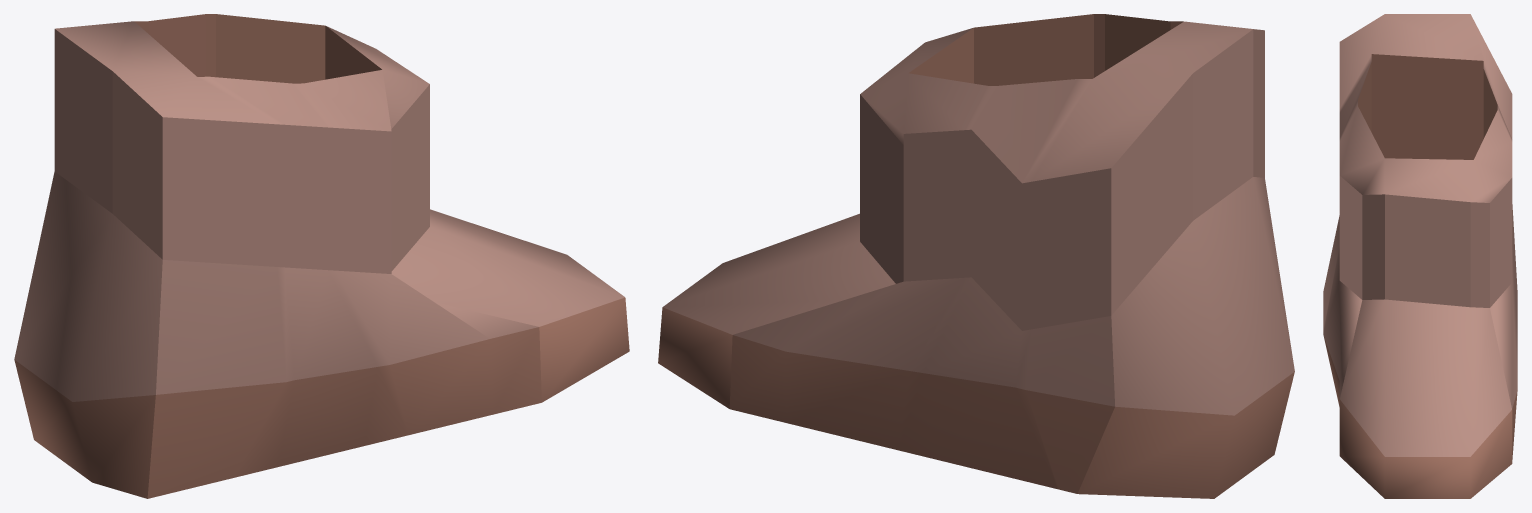
Rendered from shoe_boot.fbx.
3 renders of one model, left to right at view 1: azimuth 30°, elevation 25°; view 2: azimuth 150°, elevation 25°; view 3: azimuth 270°, elevation 25°, orthographic. The views are drawn at different scales.
Visible parts, largest first — view 1: pCube24; view 2: pCube24; view 3: pCube24.
Boxes of the visible parts, <box> form: pCube24: <box>14,14,629,498</box>; pCube24: <box>658,14,1294,498</box>; pCube24: <box>1323,14,1517,498</box>.
Size of the model in its own units: 1.18 by 0.8252 by 0.4855.
